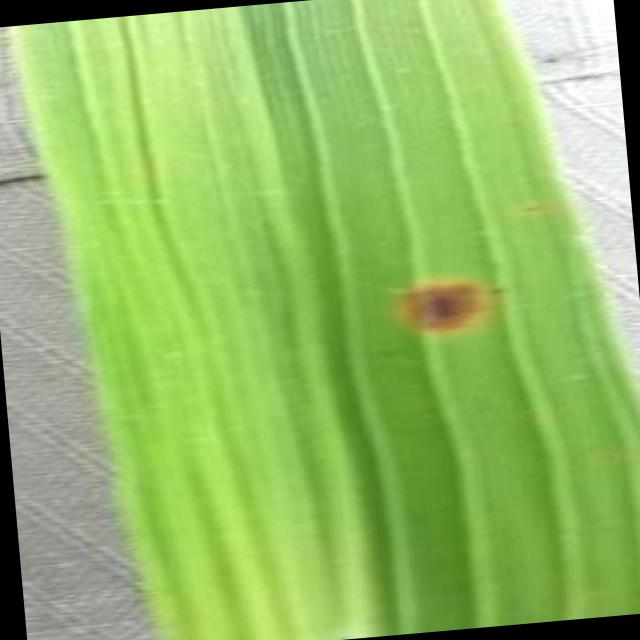Rice_Brownspot: (371, 254, 501, 362), (508, 193, 549, 220), (482, 272, 510, 300)
